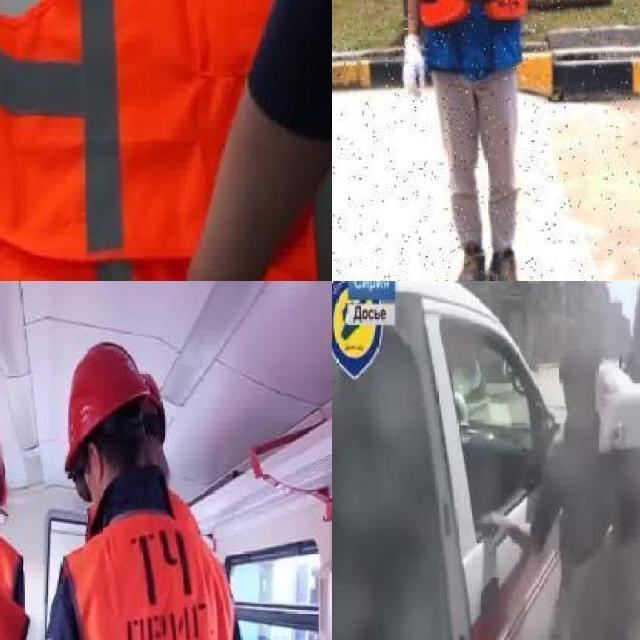apron: (398, 33, 428, 100)
